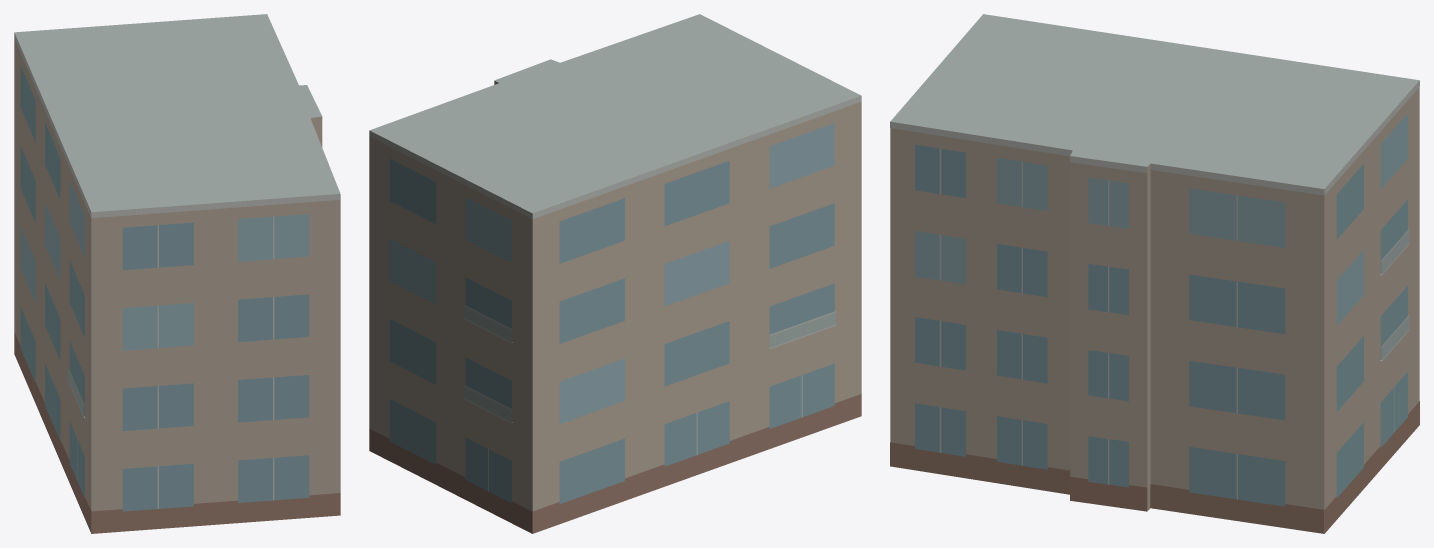
Rendered from survey-upis-32887679.glb.
The picture shows the model from 3 angles, left to right: view 1: azimuth 30°, elevation 25°; view 2: azimuth 150°, elevation 25°; view 3: azimuth 270°, elevation 25°; orthographic projection. The views are drawn at different scales.
Parts seen in each view (by area): view 1: survey-upis-32887679.tmp; view 2: survey-upis-32887679.tmp; view 3: survey-upis-32887679.tmp.
Part boxes in pixels (box(x1,y1,x2,y2)): survey-upis-32887679.tmp: box(14, 14, 340, 533); survey-upis-32887679.tmp: box(369, 14, 861, 533); survey-upis-32887679.tmp: box(890, 14, 1419, 533).
Bounding box in the file's own units: 14.39 × 13.2 × 18.39.
